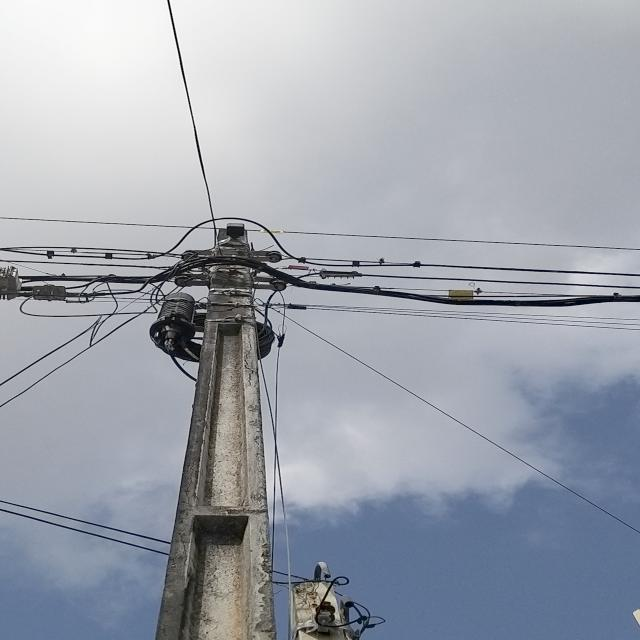Plaqueta: (288, 265, 309, 271)
